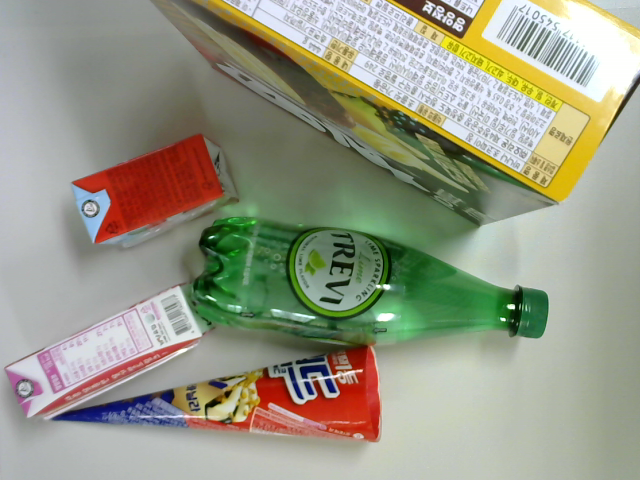Choco_Pie_Banana: (128, 1, 640, 231)
Picnic_Apple: (62, 127, 248, 261)
Strawberry_E_Mong: (1, 278, 217, 429)
Treviraim_500ml: (191, 210, 551, 363)
World_Cone_Banila: (48, 341, 391, 450)
